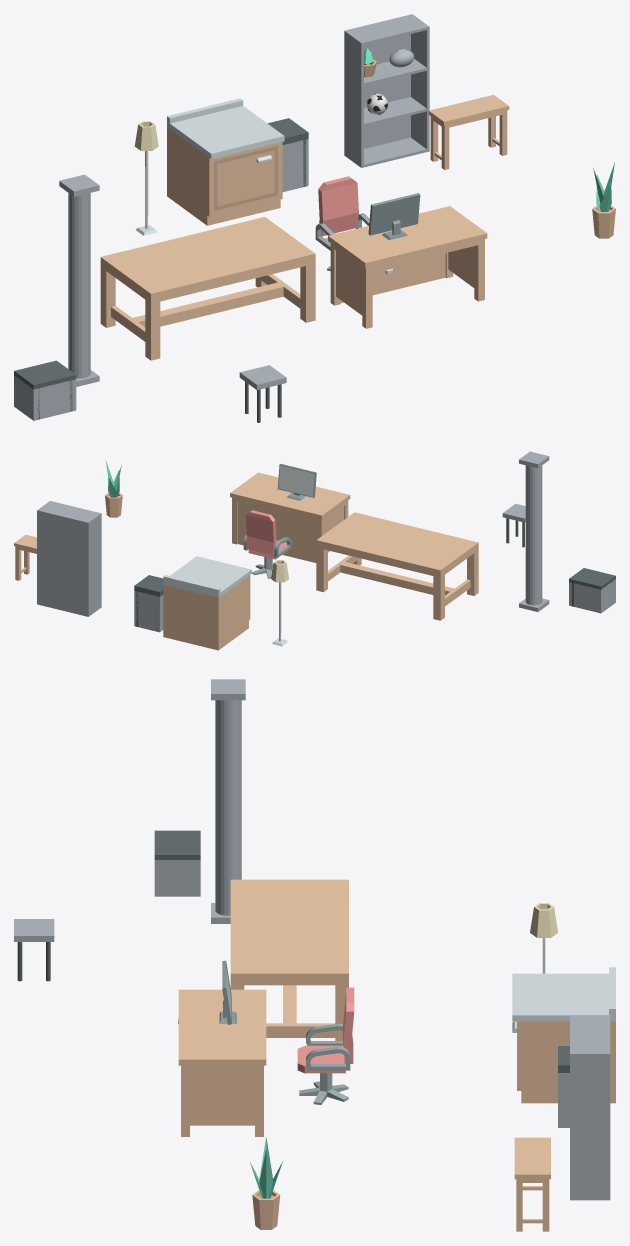
The picture shows the model from 3 angles, top to bottom: view 1: azimuth 30°, elevation 25°; view 2: azimuth 150°, elevation 25°; view 3: azimuth 270°, elevation 25°; orthographic projection. The views are drawn at different scales.
Parts seen in each view (by area): view 1: table_green__table(Clone), desk_blue__desk(Clone), cabinet_blue__kitchenCabinet(Clone), column_cyan__column_cyan shaft, cabinet_blue__door, sidetable_brown__sideTable(Clone), shelf_orange__shelf_orange back, shelf_orange__shelf_orange side_l, deskchair_black__chair, crate_red__crate_red shell, shelf_orange__shelf_orange side_r, monitor_gray__computerScreen(Clone) (+11 smaller); view 2: table_green__table(Clone), cabinet_blue__kitchenCabinet(Clone), desk_blue__desk(Clone), shelf_orange__shelf_orange back, column_cyan__column_cyan shaft, deskchair_black__chair, shelf_orange__shelf_orange side_l, monitor_gray__computerScreen(Clone), crate_red__crate_red shell, bin_gray__bin_gray shell, sidetable_brown__sideTable(Clone), shelf_orange__shelf_orange board3 (+7 smaller); view 3: table_green__table(Clone), desk_blue__desk(Clone), cabinet_blue__kitchenCabinet(Clone), shelf_orange__shelf_orange side_r, column_cyan__column_cyan shaft, sidetable_brown__sideTable(Clone), deskchair_black__chair, crate_red__crate_red shell, shelf_orange__shelf_orange board3, crate_red__crate_red lid, lamp_white__lampRoundFloor(Clone), stool_purple__stool_purple seat (+3 smaller).
Part boxes in pixels (<box>): table_green__table(Clone): <box>100,217,315,360</box>; desk_blue__desk(Clone): <box>328,206,487,328</box>; cabinet_blue__kitchenCabinet(Clone): <box>167,98,284,225</box>; column_cyan__column_cyan shaft: <box>68,193,90,378</box>; cabinet_blue__door: <box>214,146,277,210</box>; sidetable_brown__sideTable(Clone): <box>428,94,509,169</box>; shelf_orange__shelf_orange back: <box>347,14,410,148</box>; shelf_orange__shelf_orange side_l: <box>344,30,363,167</box>; deskchair_black__chair: <box>315,176,369,250</box>; crate_red__crate_red shell: <box>14,375,76,420</box>; shelf_orange__shelf_orange side_r: <box>410,14,429,151</box>; monitor_gray__computerScreen(Clone): <box>368,193,420,240</box>; table_green__table(Clone): <box>316,512,478,620</box>; cabinet_blue__kitchenCabinet(Clone): <box>163,556,251,650</box>; desk_blue__desk(Clone): <box>230,472,350,562</box>; shelf_orange__shelf_orange back: <box>39,510,86,616</box>; column_cyan__column_cyan shaft: <box>525,465,542,605</box>; deskchair_black__chair: <box>243,510,291,559</box>; shelf_orange__shelf_orange side_l: <box>86,513,101,616</box>; monitor_gray__computerScreen(Clone): <box>277,464,316,500</box>; crate_red__crate_red shell: <box>569,579,615,613</box>; bin_gray__bin_gray shell: <box>134,591,163,632</box>; sidetable_brown__sideTable(Clone): <box>14,534,36,580</box>; shelf_orange__shelf_orange board3: <box>40,501,98,521</box>; table_green__table(Clone): <box>230,879,348,1040</box>; desk_blue__desk(Clone): <box>178,989,266,1136</box>; cabinet_blue__kitchenCabinet(Clone): <box>512,967,615,1103</box>; shelf_orange__shelf_orange side_r: <box>570,1052,610,1200</box>; column_cyan__column_cyan shaft: <box>215,700,241,915</box>; sidetable_brown__sideTable(Clone): <box>514,1137,550,1231</box>; deskchair_black__chair: <box>297,987,354,1073</box>; crate_red__crate_red shell: <box>154,860,200,896</box>; shelf_orange__shelf_orange board3: <box>570,1016,607,1052</box>; crate_red__crate_red lid: <box>154,830,200,859</box>; lamp_white__lampRoundFloor(Clone): <box>530,903,557,973</box>; stool_purple__stool_purple seat: <box>14,919,54,941</box>.
Size of the model in its own units: 7.39 by 2.2 by 5.22.
